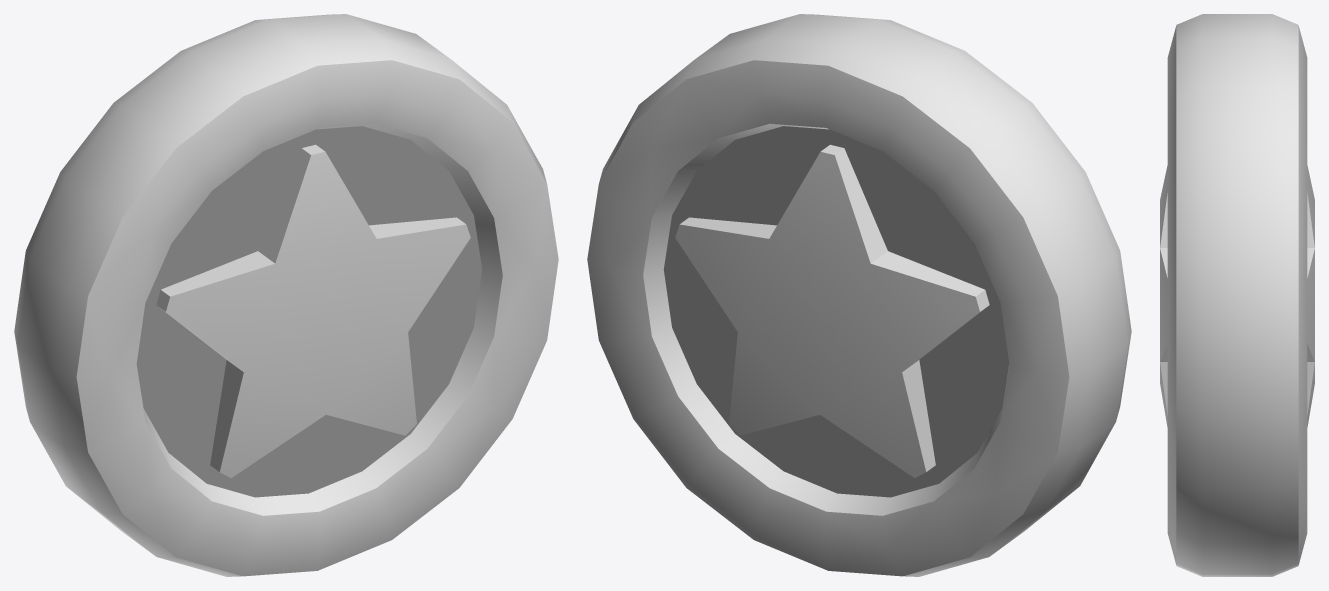
File: Coin.fbx
The picture shows the model from 3 angles, left to right: view 1: azimuth 30°, elevation 25°; view 2: azimuth 150°, elevation 25°; view 3: azimuth 270°, elevation 25°; orthographic projection. The views are drawn at different scales.
Visible parts, largest first — view 1: Coin; view 2: Coin; view 3: Coin.
Boxes of the visible parts, x1,y1,x2,y2 form: Coin: (14,14,558,576); Coin: (587,14,1131,576); Coin: (1160,14,1314,576).
Bounding box in the file's own units: 192 × 192 × 52.34.
